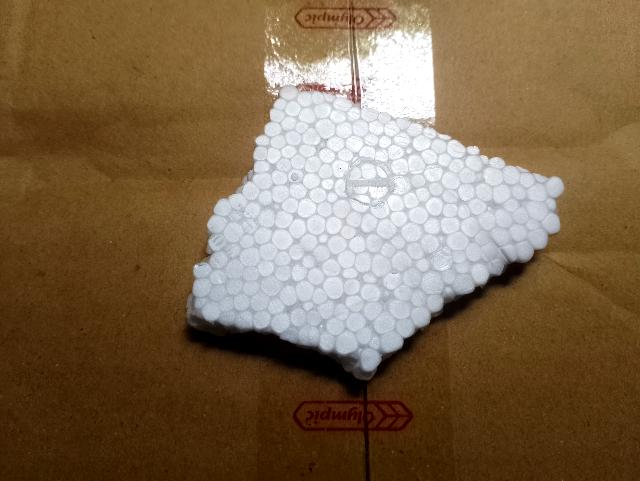cocksheet: (183, 83, 538, 364)
